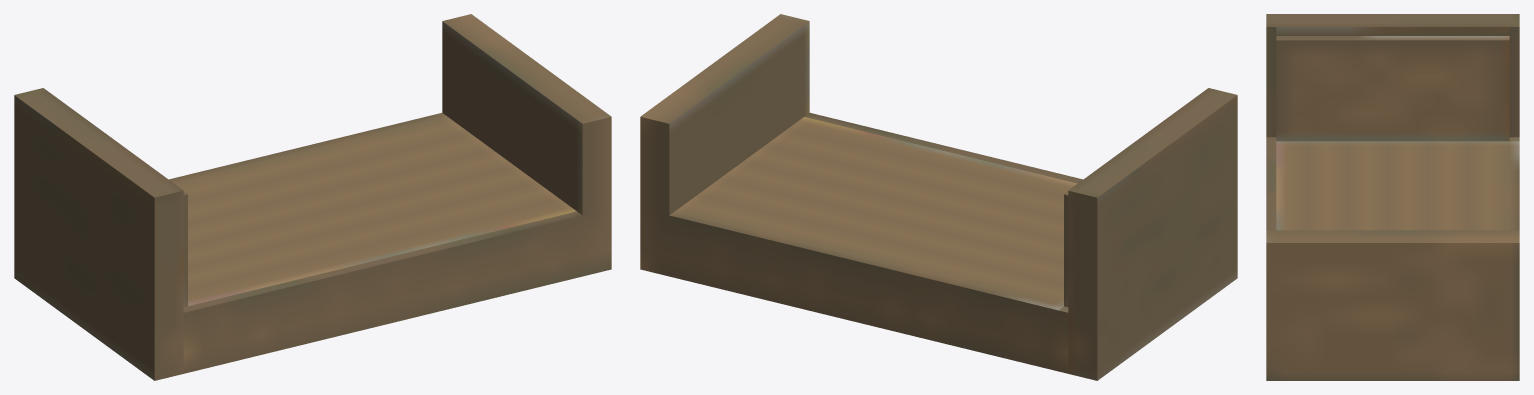
Rendered from BedFrameBrown_00.obj.
3 views of the same model, side by side, from view 1: azimuth 30°, elevation 25°; view 2: azimuth 150°, elevation 25°; view 3: azimuth 270°, elevation 25° (orthographic). The views are drawn at different scales.
Parts seen in each view (by area): view 1: BedFrameBrown_00; view 2: BedFrameBrown_00; view 3: BedFrameBrown_00.
Part boxes in pixels (box(x1,y1,x2,y2)): BedFrameBrown_00: box(14, 14, 611, 380); BedFrameBrown_00: box(640, 14, 1237, 380); BedFrameBrown_00: box(1266, 14, 1519, 380).
Bounding box in the file's own units: 2.35 × 0.9 × 1.25.
